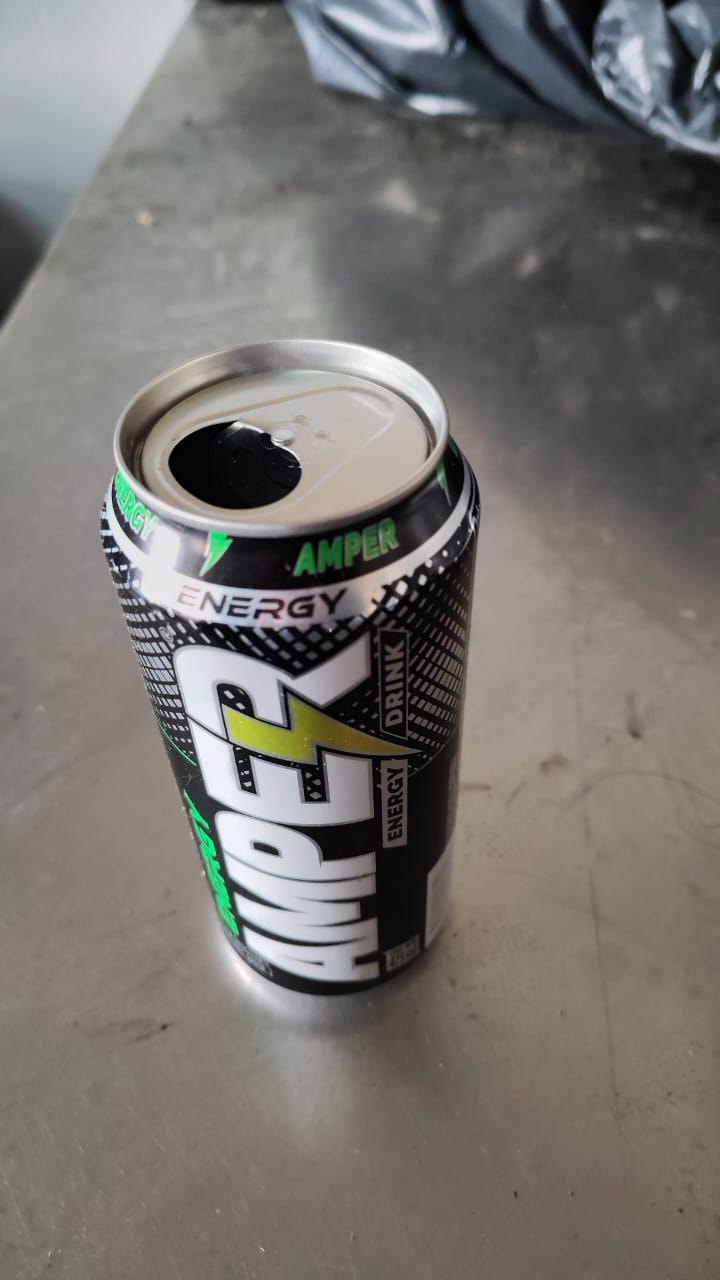Metal: (100, 337, 484, 1002)
